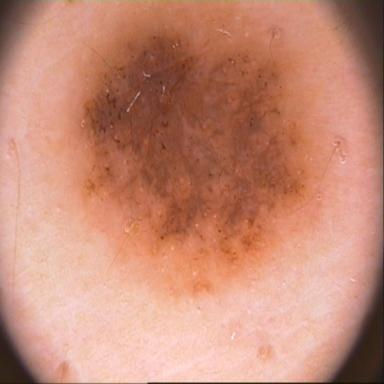nevus: (83, 36, 319, 278)
